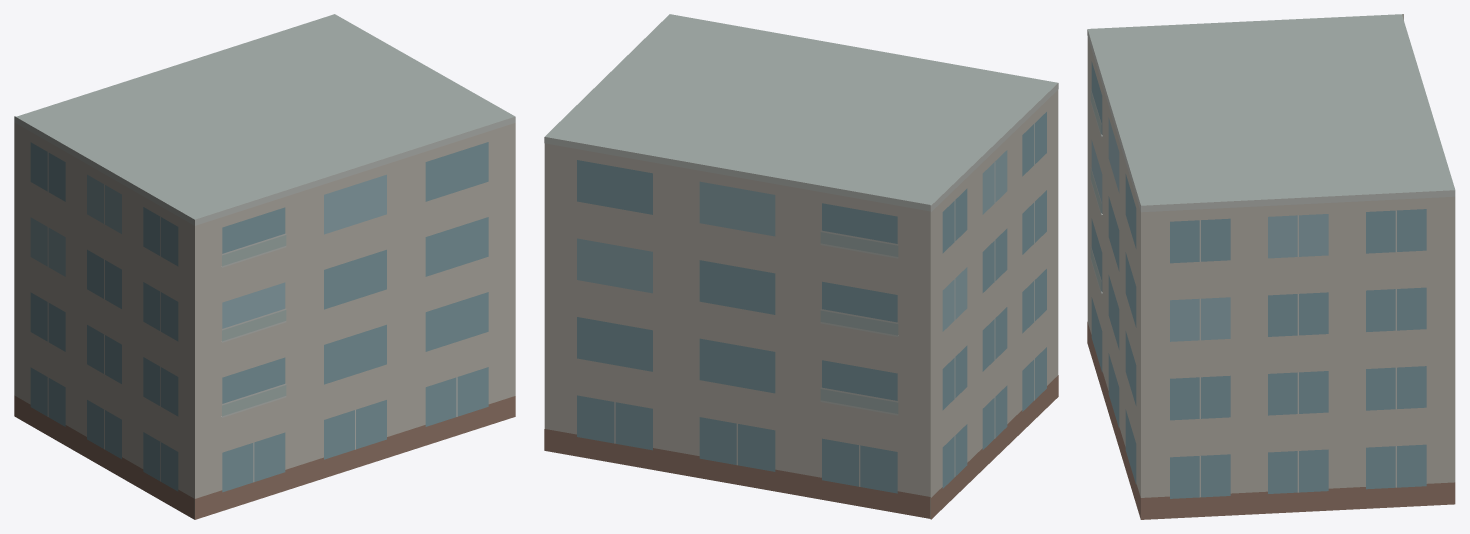
Rendered from survey-upis-32820345.glb.
3 renders of one model, left to right at view 1: azimuth 30°, elevation 25°; view 2: azimuth 150°, elevation 25°; view 3: azimuth 270°, elevation 25°, orthographic. The views are drawn at different scales.
Visible parts, largest first — view 1: survey-upis-32820345.tmp; view 2: survey-upis-32820345.tmp; view 3: survey-upis-32820345.tmp.
Part boxes in pixels (box(x1,y1,x2,y2)): survey-upis-32820345.tmp: box(14, 14, 515, 519); survey-upis-32820345.tmp: box(544, 14, 1058, 519); survey-upis-32820345.tmp: box(1087, 14, 1455, 519).
Bounding box in the file's own units: 15.45 × 11.8 × 12.54.
